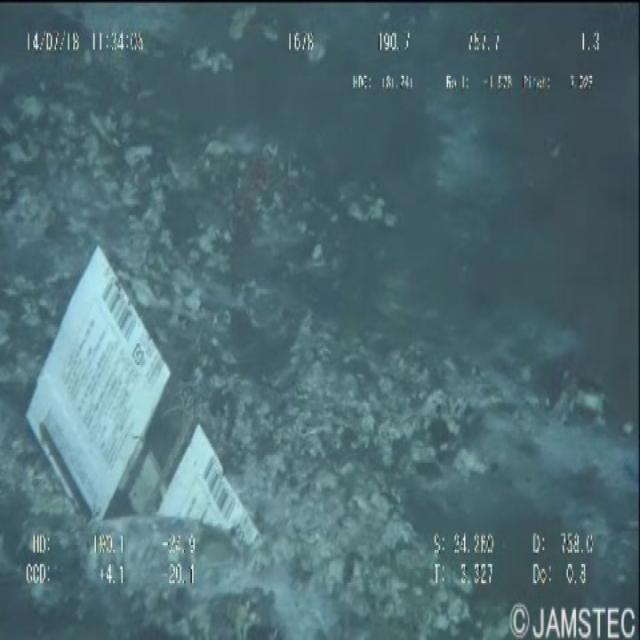Glass: (26, 221, 268, 562)
